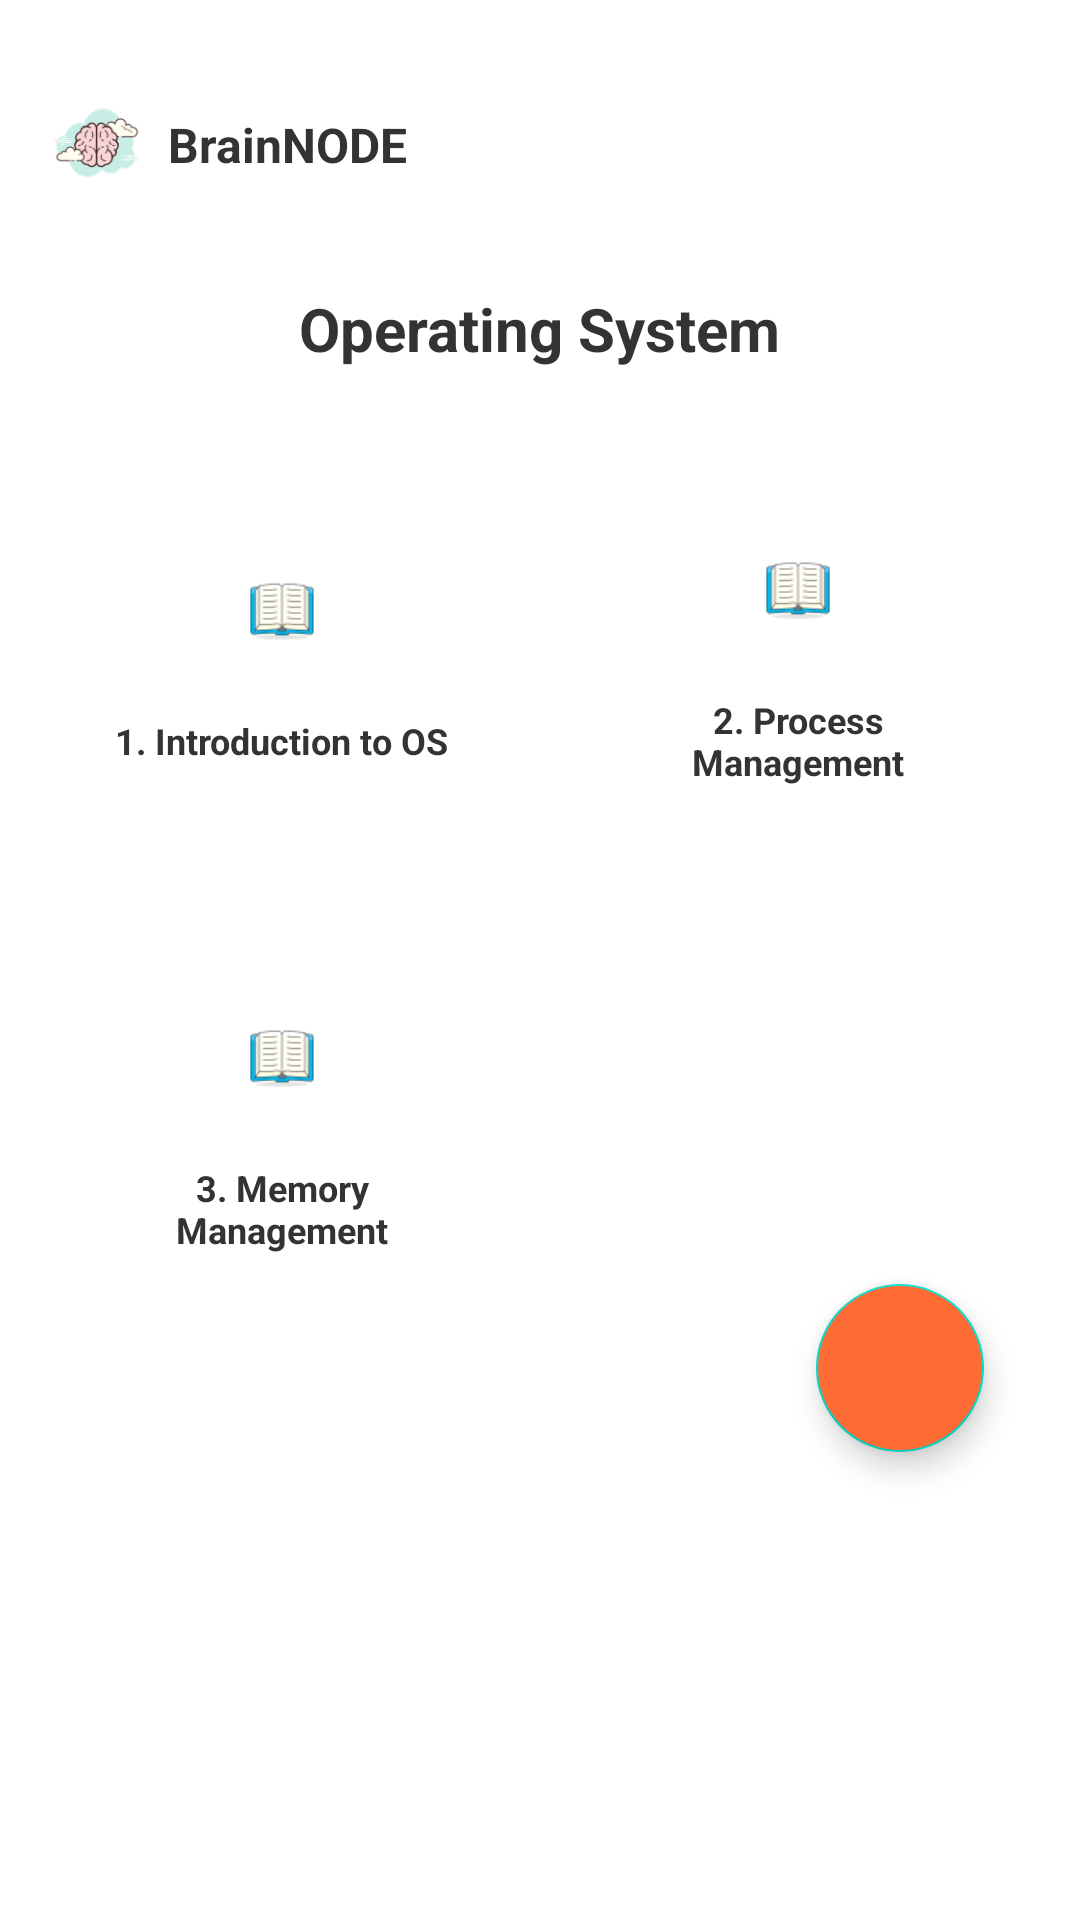

Named icons in this screenshot (1080*1920) and their centers, (x,y):
lesson card: (798,590), (282,611), (282,1058)
